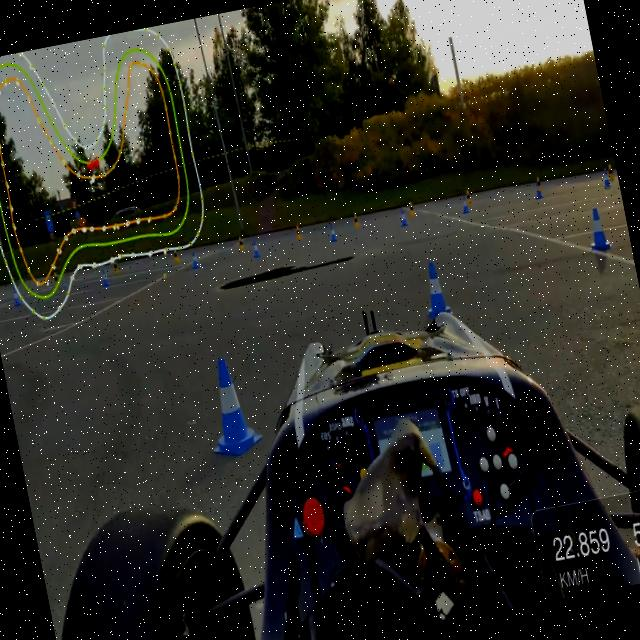blue_cone: (194, 346, 266, 464), (415, 256, 452, 320), (582, 203, 614, 256), (98, 266, 111, 289), (10, 284, 22, 308), (326, 221, 339, 243), (250, 239, 262, 260), (600, 168, 611, 188), (190, 251, 201, 270), (398, 208, 408, 228), (460, 196, 470, 214), (534, 183, 543, 202)
yellow_cone: (606, 162, 617, 182), (294, 224, 304, 242), (237, 235, 246, 252), (408, 200, 416, 218), (464, 190, 474, 204), (536, 176, 544, 192), (112, 262, 121, 276), (172, 250, 181, 264), (352, 214, 360, 228)
